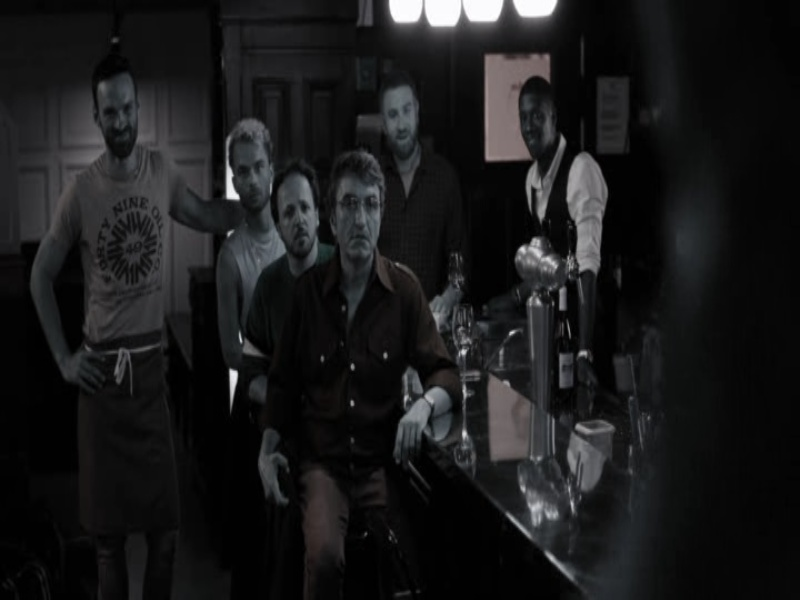TsisyArotava: (320, 148, 396, 272), (83, 51, 154, 168), (261, 163, 325, 258), (222, 119, 278, 208)
